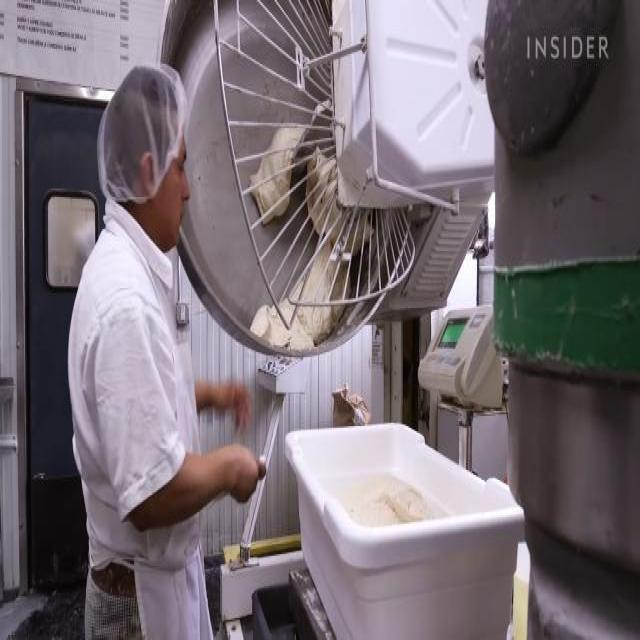bare_hand: (209, 433, 269, 519), (207, 364, 259, 431)
